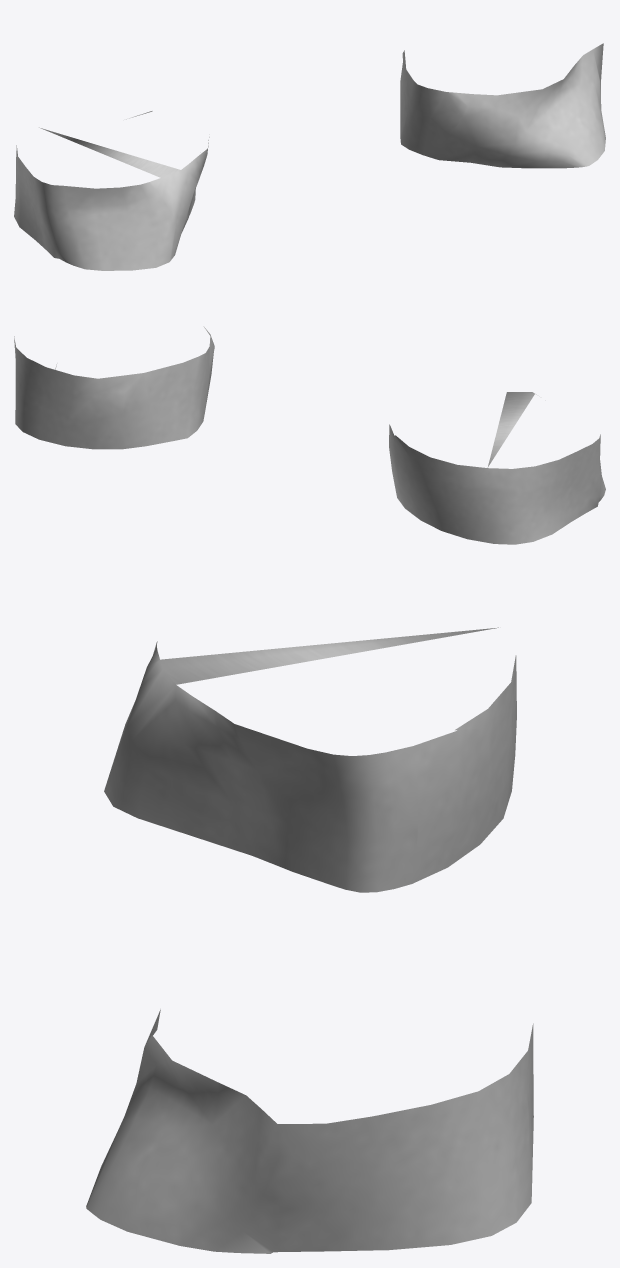
The model's file is COP_Under.glb.
3 renders of one model, top to bottom at view 1: azimuth 30°, elevation 25°; view 2: azimuth 150°, elevation 25°; view 3: azimuth 270°, elevation 25°, orthographic. The views are drawn at different scales.
Parts seen in each view (by area): view 1: COP_Under1; view 2: COP_Under1; view 3: COP_Under1.
Boxes of the visible parts, bbox=[...] form: COP_Under1: bbox=[14, 43, 605, 270]; COP_Under1: bbox=[14, 326, 605, 544]; COP_Under1: bbox=[86, 627, 533, 1253].
Size of the model in its own units: 0.7357 by 0.0968 by 0.2527.
1 material, 1 textured.
